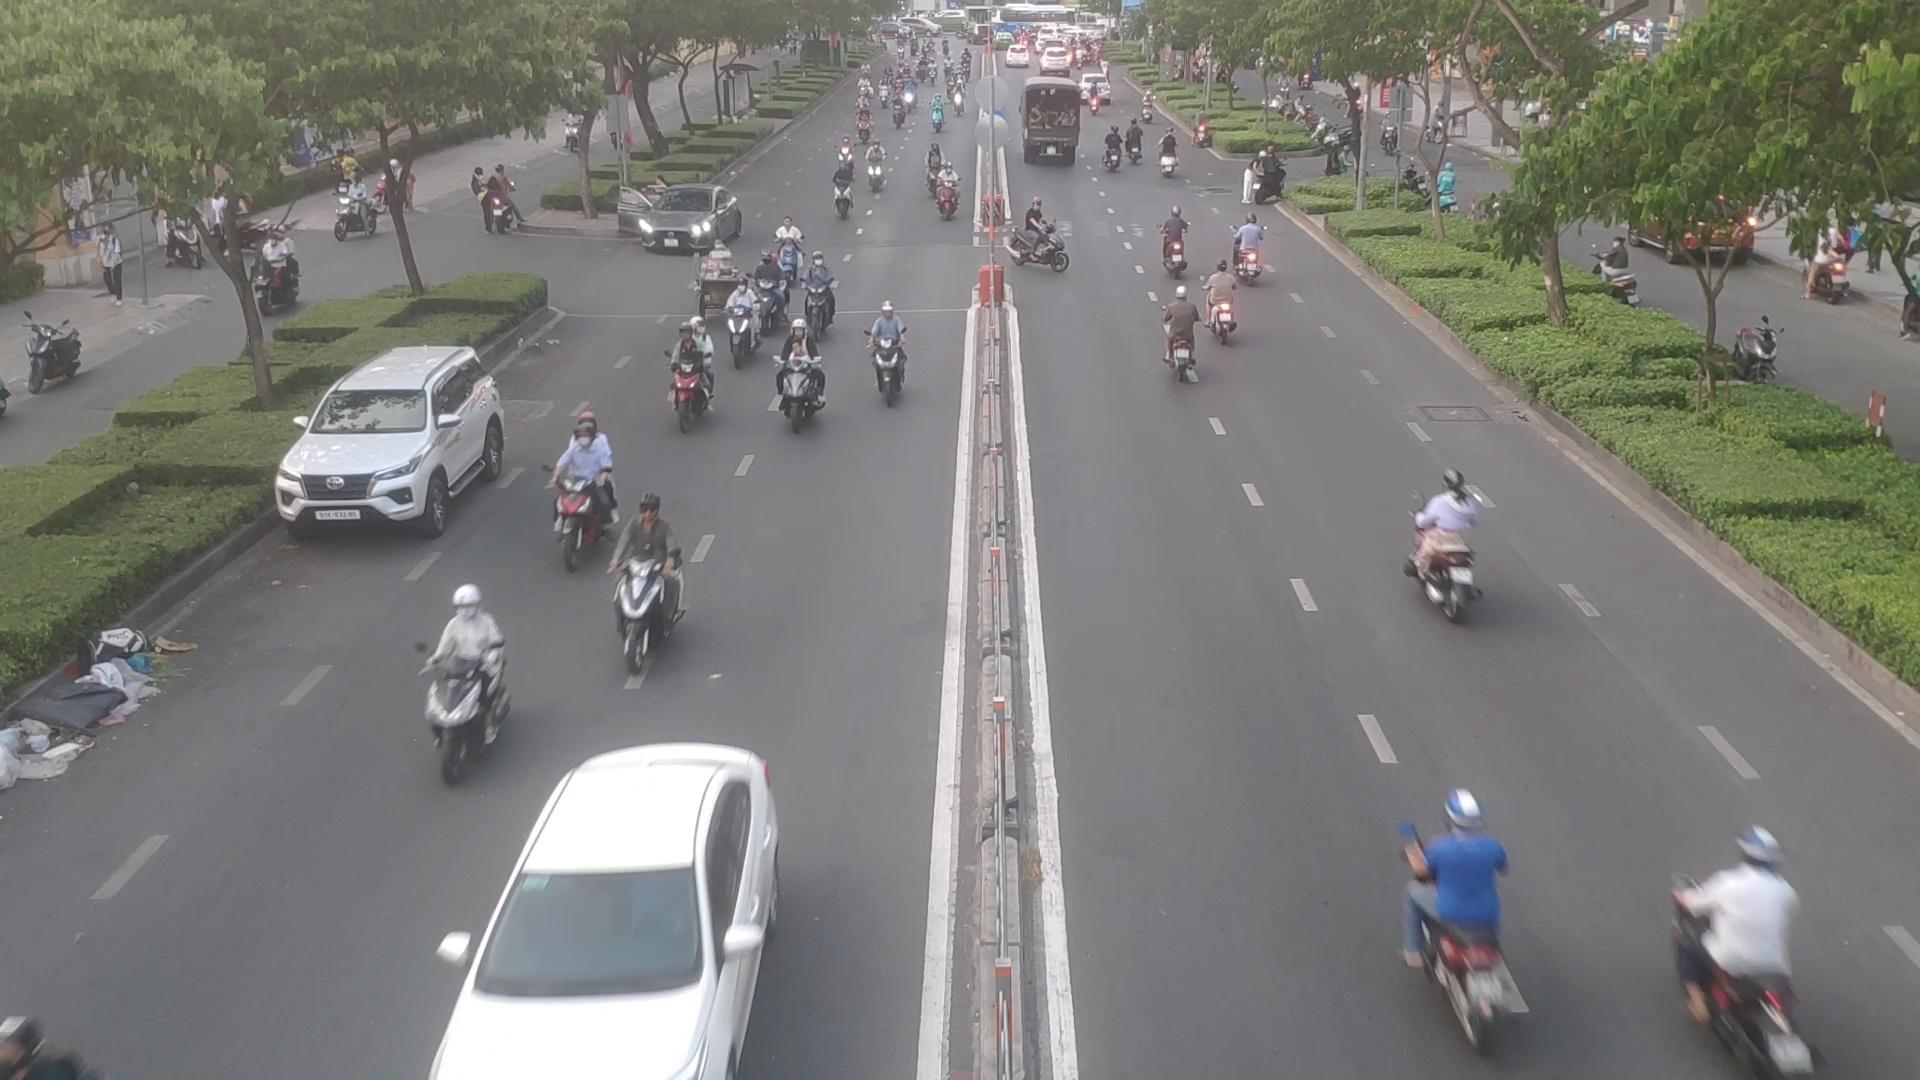car: (434, 735, 787, 1080), (273, 345, 512, 535), (622, 186, 738, 256)
motorbike: (1680, 808, 1817, 1080), (1396, 789, 1519, 1044), (427, 584, 506, 764), (607, 491, 687, 659), (1408, 462, 1480, 607), (543, 406, 613, 550), (655, 306, 721, 433), (855, 301, 916, 410), (1006, 186, 1073, 284), (771, 349, 828, 433), (1160, 281, 1197, 393), (720, 266, 764, 360), (799, 244, 837, 340), (1153, 196, 1196, 280), (1204, 261, 1246, 345), (1230, 210, 1273, 290), (1247, 149, 1294, 207), (934, 160, 967, 224), (827, 164, 857, 220), (866, 138, 889, 189), (1104, 123, 1124, 179), (1164, 127, 1184, 177), (1127, 120, 1146, 166)
